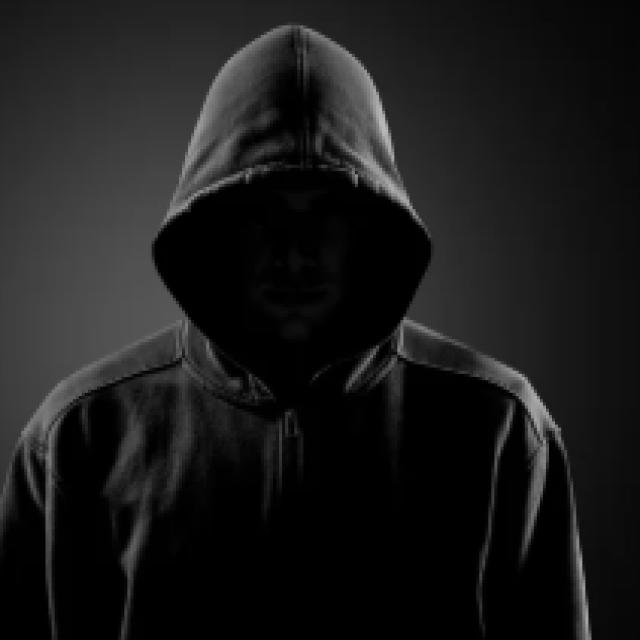4_capucha: (148, 23, 431, 374)
